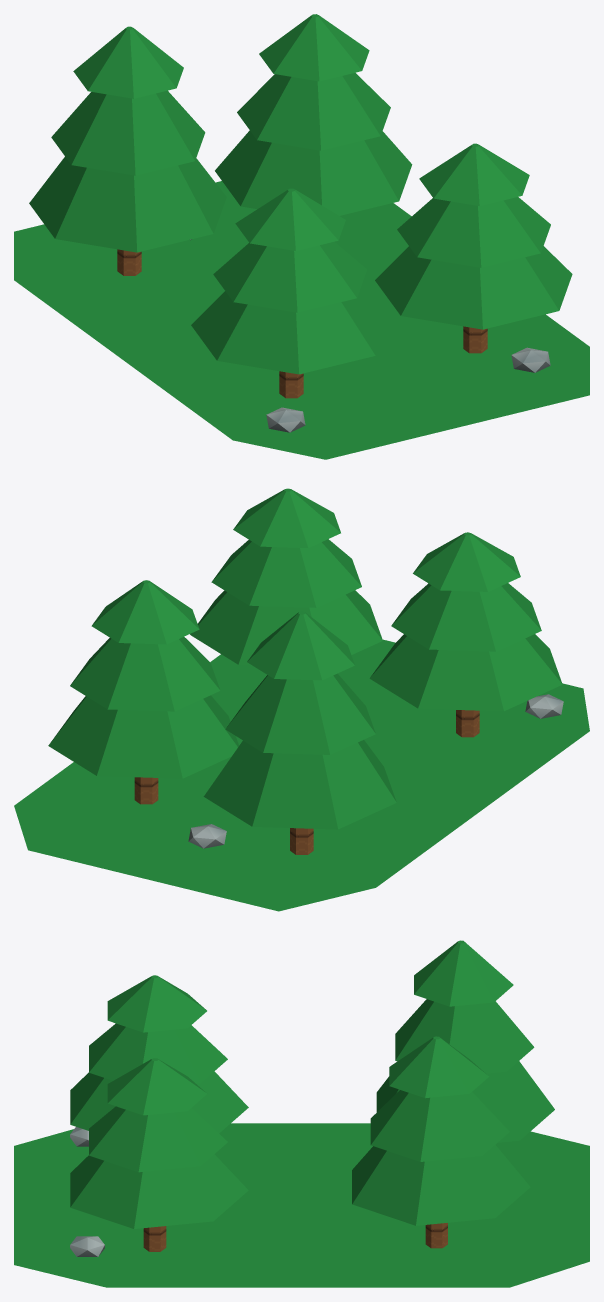
The model's file is forest-island-2x3.glb.
The picture shows the model from 3 angles, top to bottom: view 1: azimuth 30°, elevation 25°; view 2: azimuth 150°, elevation 25°; view 3: azimuth 270°, elevation 25°; orthographic projection. The views are drawn at different scales.
Visible parts, largest first — view 1: forest-island-2x3; view 2: forest-island-2x3; view 3: forest-island-2x3.
Boxes of the visible parts, x1=… form: forest-island-2x3: x1=14, y1=14, x2=589, y2=459; forest-island-2x3: x1=14, y1=488, x2=589, y2=911; forest-island-2x3: x1=14, y1=940, x2=589, y2=1287.
Bounding box in the file's own units: 1.9 × 1.22 × 2.82.
1 material, 1 textured.
